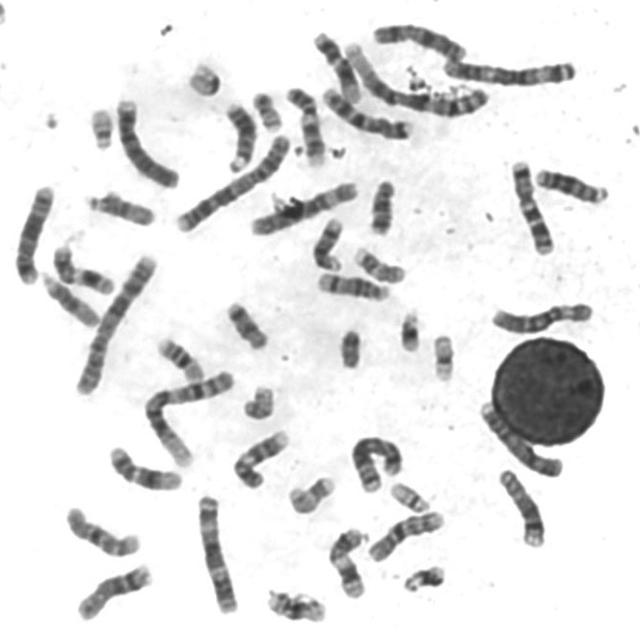A1: (336, 35, 492, 120), (137, 364, 237, 468)
A2: (68, 247, 160, 398), (169, 126, 294, 235)
A3: (190, 488, 241, 616), (436, 51, 580, 88)
B4: (473, 395, 565, 480), (109, 90, 182, 188)
B5: (8, 178, 58, 286), (344, 430, 405, 494)
C10: (362, 502, 448, 564), (58, 499, 142, 560)
C11: (46, 238, 117, 296), (322, 522, 370, 601)
C12: (306, 25, 364, 103), (101, 439, 184, 493)
C6: (243, 174, 361, 238), (484, 294, 596, 336)
C7: (316, 79, 416, 141), (503, 152, 556, 256)
C8: (70, 556, 156, 623), (492, 462, 548, 550)
C9: (278, 79, 328, 167), (227, 424, 292, 489)
D13: (529, 160, 610, 206), (218, 94, 258, 174)
D14: (310, 265, 392, 303), (307, 211, 346, 272)
D15: (34, 263, 102, 330), (78, 184, 158, 228)
E16: (259, 582, 328, 626), (150, 330, 207, 383)
E17: (347, 240, 408, 286), (282, 469, 338, 516)
E18: (220, 294, 271, 352), (362, 172, 398, 236)
F19: (425, 326, 457, 384), (180, 56, 224, 98)
F20: (245, 84, 284, 133), (236, 378, 278, 422)
G21: (395, 558, 448, 594), (392, 302, 424, 354)
G22: (82, 99, 117, 152), (384, 476, 432, 514)
X: (366, 16, 468, 62)
Y: (332, 321, 364, 371)
